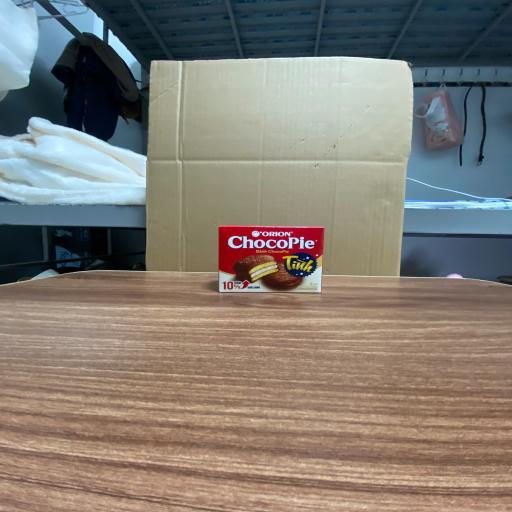chocopie: (219, 227, 324, 293)
